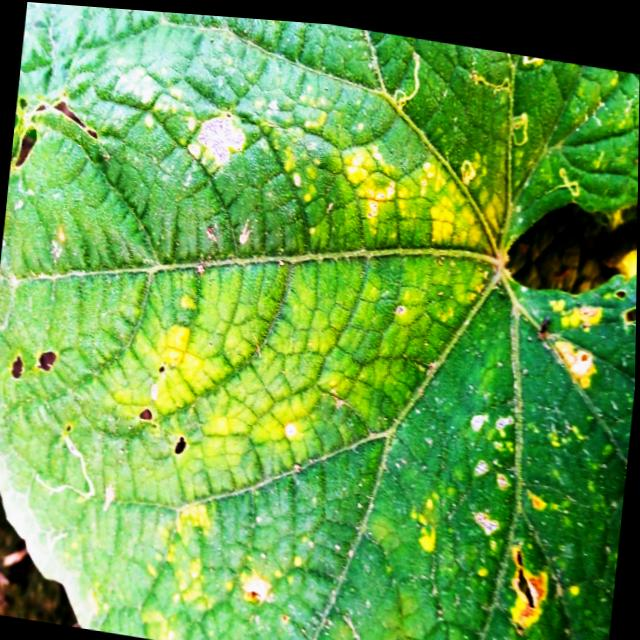Downy-Mildew: (0, 13, 640, 640)
